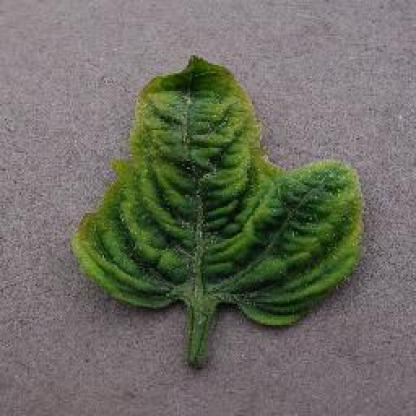bad leaf: (90, 64, 356, 325)
